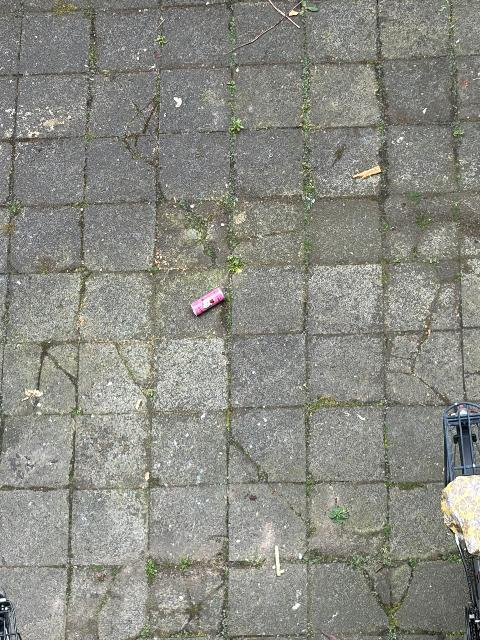can: (191, 287, 225, 316)
